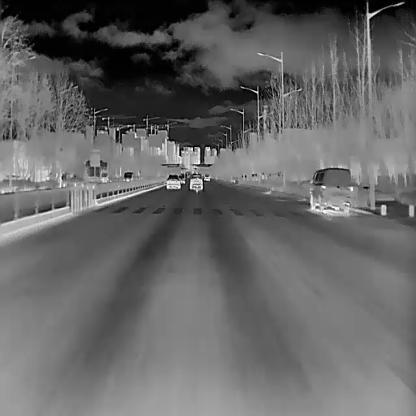car: (308, 166, 352, 212), (84, 159, 108, 184), (165, 173, 180, 189), (189, 172, 202, 190), (123, 171, 134, 181), (178, 173, 185, 183), (203, 173, 209, 180)
